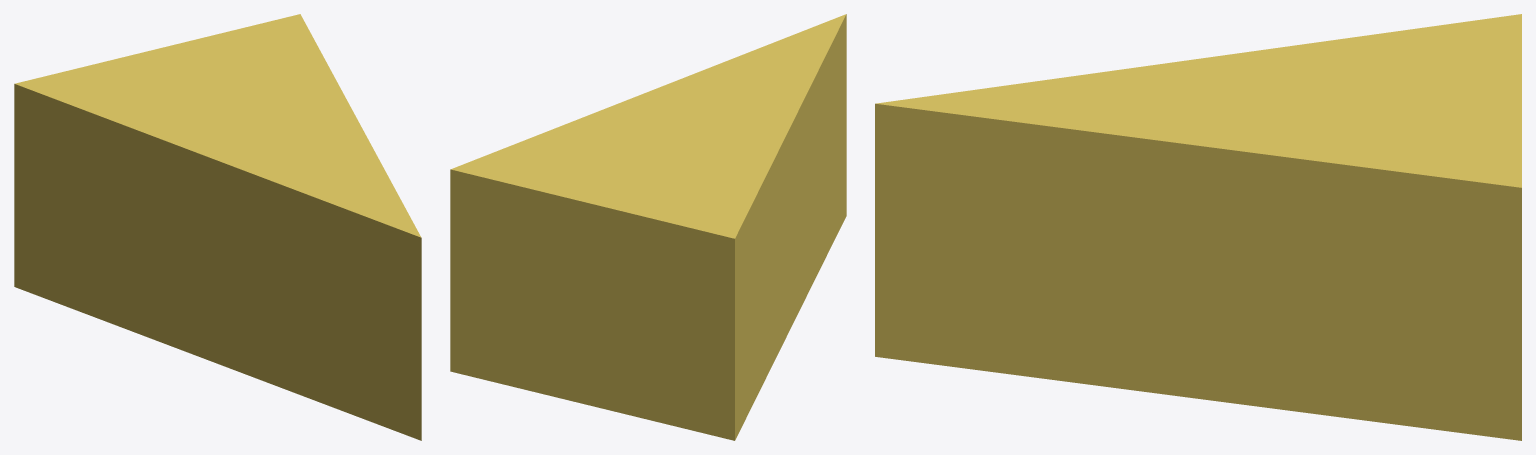
The model's file is cheese.fbx.
3 renders of one model, left to right at view 1: azimuth 30°, elevation 25°; view 2: azimuth 150°, elevation 25°; view 3: azimuth 270°, elevation 25°, orthographic. The views are drawn at different scales.
Parts seen in each view (by area): view 1: cheese; view 2: cheese; view 3: cheese.
Boxes of the visible parts, x1=… form: cheese: x1=14, y1=14, x2=421, y2=440; cheese: x1=450, y1=14, x2=846, y2=440; cheese: x1=875, y1=14, x2=1521, y2=440.
Size of the model in its own units: 9.53 by 6.47 by 14.99.
